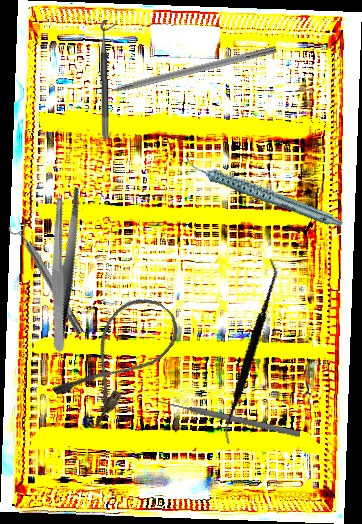Cannula: (48, 284, 189, 431)
Dressing Forceps: (10, 181, 116, 354)
Fixation Ring: (6, 217, 90, 340), (99, 19, 120, 139)
Handpiece: (182, 126, 344, 258)
Hook Surgical: (81, 44, 278, 102)
Pusher: (155, 396, 302, 439)
Spatula Surgical: (178, 258, 320, 445)
